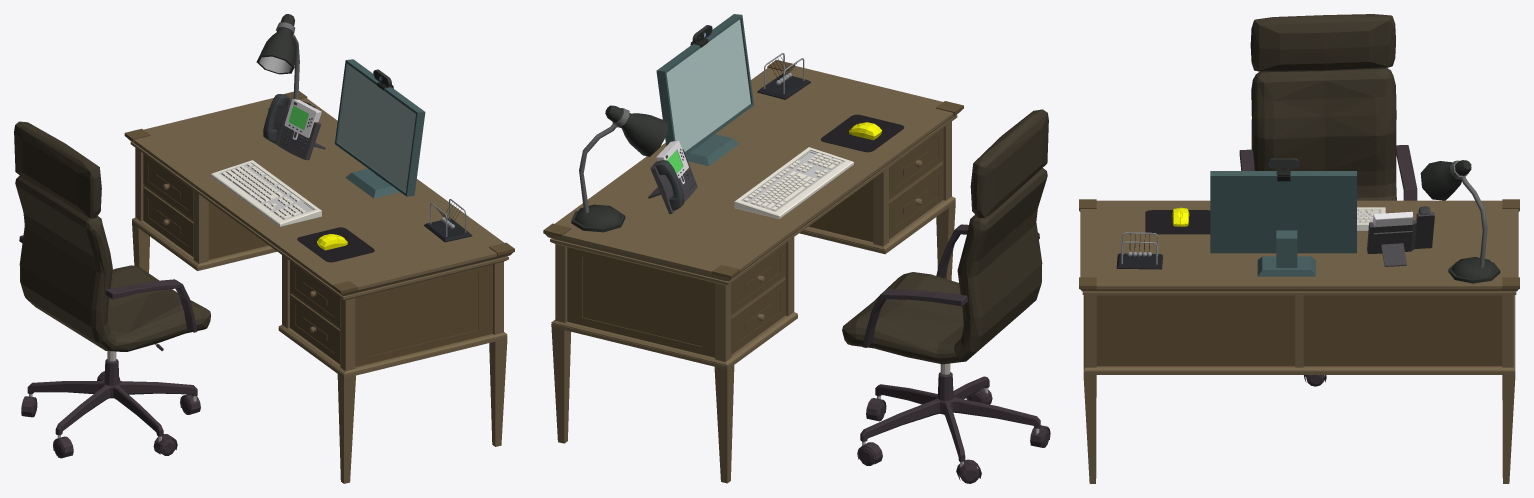
File: deskwithchair-transformed.glb
3 renders of one model, left to right at view 1: azimuth 30°, elevation 25°; view 2: azimuth 150°, elevation 25°; view 3: azimuth 270°, elevation 25°, orthographic. The views are drawn at different scales.
Parts seen in each view (by area): view 1: Chair, Keyboard-aPwr5p1dluw; view 2: Chair, Keyboard-aPwr5p1dluw; view 3: Chair.
Part boxes in pixels (left/top/right/bottom): Chair: left=14, top=14, right=514, bottom=483; Keyboard-aPwr5p1dluw: left=211, top=160, right=321, bottom=226; Chair: left=543, top=14, right=1050, bottom=483; Keyboard-aPwr5p1dluw: left=734, top=147, right=853, bottom=218; Chair: left=1079, top=14, right=1519, bottom=483.
Bounding box in the file's own units: 1.72 × 1.43 × 1.82.
Materials: 3 (3 with a texture image).
